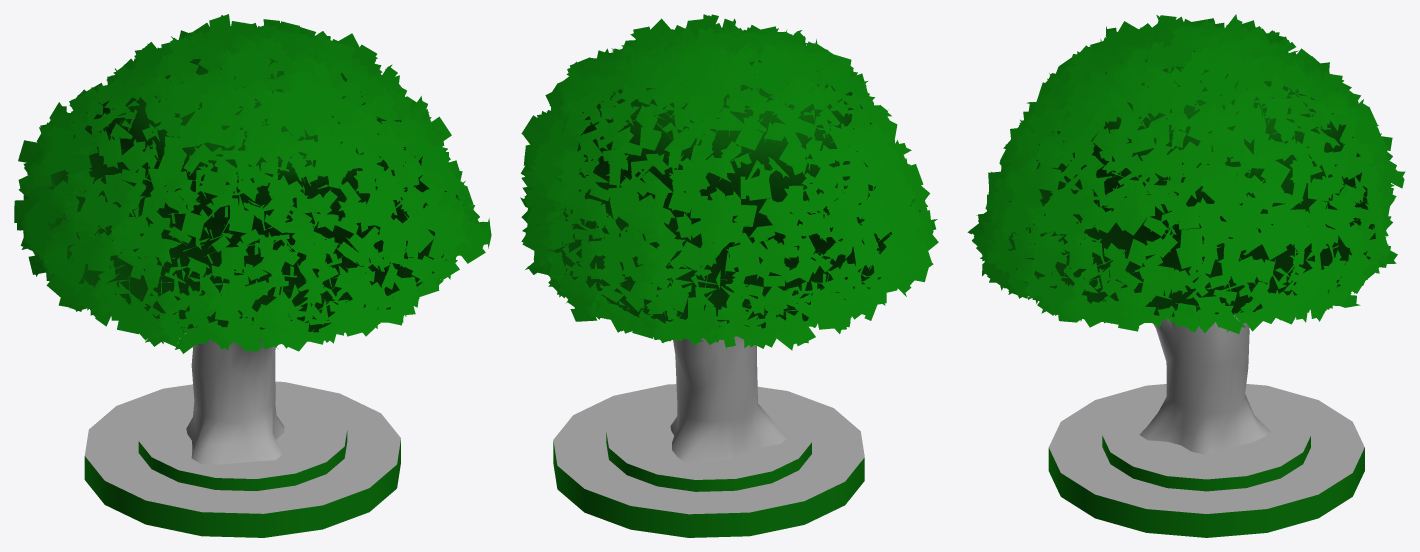
The model's file is Tree_001_Main_001.fbx.
3 renders of one model, left to right at view 1: azimuth 30°, elevation 25°; view 2: azimuth 150°, elevation 25°; view 3: azimuth 270°, elevation 25°, orthographic.
Visible parts, largest first — view 1: tree, base; view 2: tree, base; view 3: tree, base.
Part boxes in pixels (x1,y1,x2,y2): tree: (14, 14, 491, 464); base: (84, 381, 400, 537); tree: (520, 14, 938, 461); base: (553, 384, 864, 537); tree: (967, 14, 1405, 454); base: (1048, 384, 1364, 537).
Bounding box in the file's own units: 1693 × 1831 × 1664.
